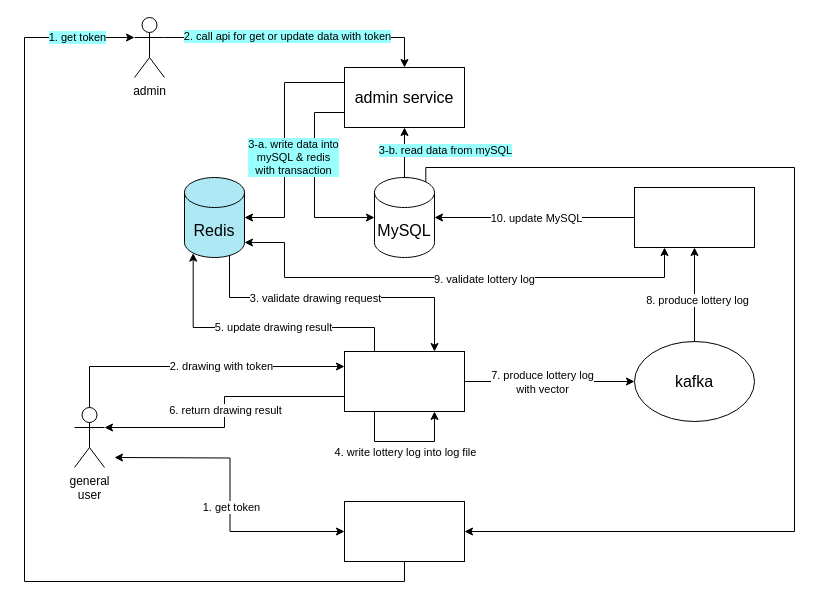
Image size: 820x607. Some labels were removed from this diagram. The shapes that lost their labels are listed below. From the top down, each one's centre as x and y in pixels, then its label:
At point (694, 217): "record service".
At point (404, 381): "lottery service".
At point (404, 531): "auth service".
